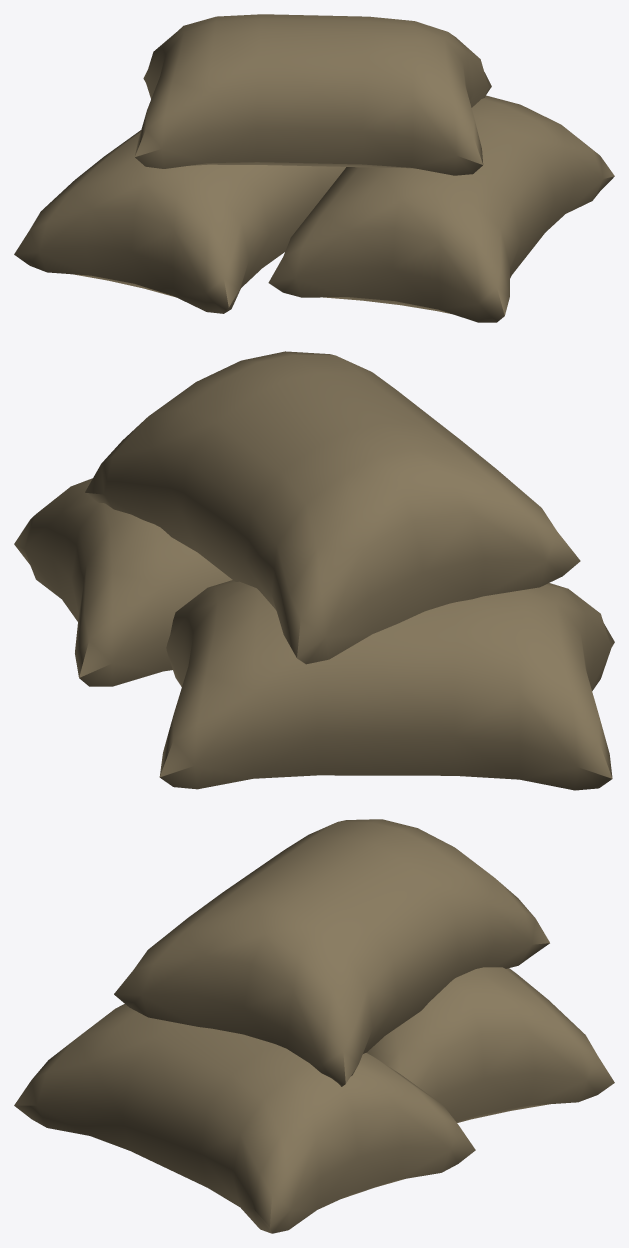
Rendered from Bags.gltf.
The picture shows the model from 3 angles, top to bottom: view 1: azimuth 30°, elevation 25°; view 2: azimuth 150°, elevation 25°; view 3: azimuth 270°, elevation 25°; orthographic projection. The views are drawn at different scales.
Parts seen in each view (by area): view 1: Bags; view 2: Bags; view 3: Bags.
Boxes of the visible parts, x1,y1,x2,y2 form: Bags: [14, 14, 614, 322]; Bags: [14, 351, 614, 790]; Bags: [14, 819, 614, 1233].
Bounding box in the file's own units: 0.2697 × 0.1071 × 0.2392.
